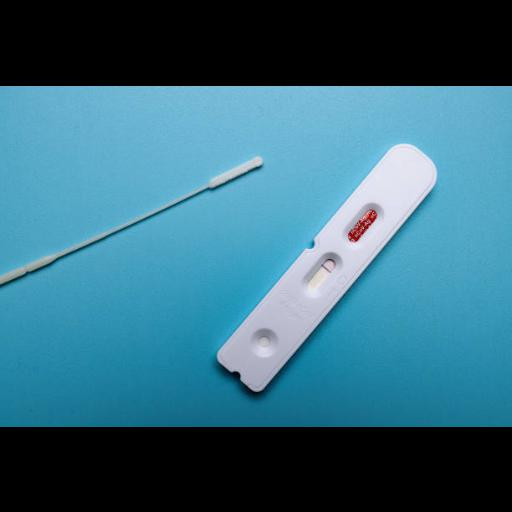Neg: (213, 136, 448, 395)
